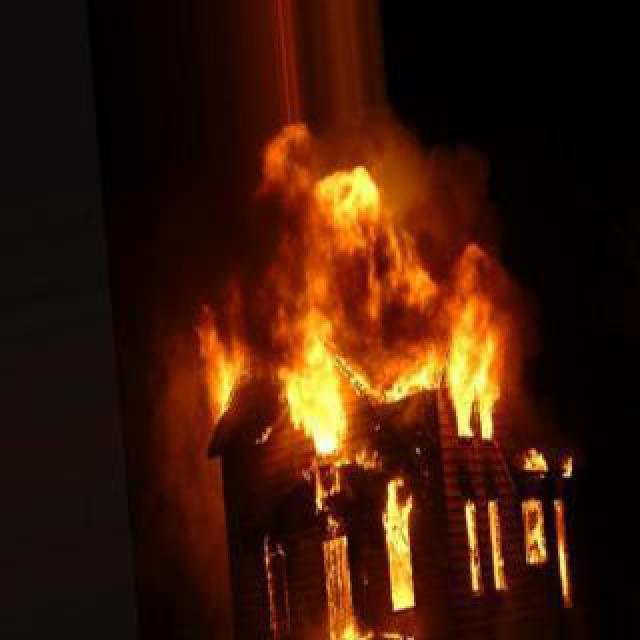Fire: (252, 140, 502, 464), (194, 292, 246, 436), (384, 488, 416, 610), (468, 494, 502, 594), (330, 546, 366, 638), (512, 498, 552, 572), (554, 504, 576, 616), (518, 444, 582, 478)
